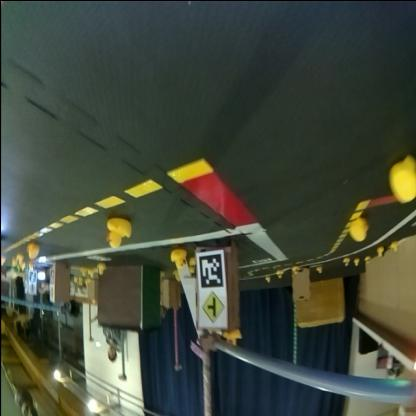Duckie: (390, 159, 414, 203), (106, 216, 130, 248), (349, 218, 367, 240), (170, 250, 186, 266), (26, 243, 38, 259), (96, 263, 107, 275), (316, 264, 322, 272), (354, 258, 360, 265), (292, 265, 298, 272), (344, 258, 349, 265), (393, 244, 397, 252), (366, 256, 370, 263), (379, 250, 383, 254)
Intersection sign: (198, 290, 227, 326)
QR code: (198, 252, 223, 288)
